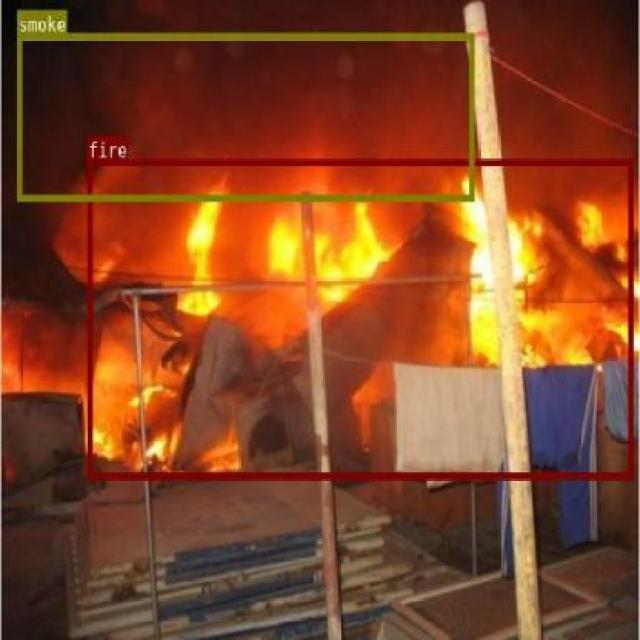Fire: (0, 185, 625, 373), (17, 365, 375, 457)
Smoke: (0, 0, 620, 197)
